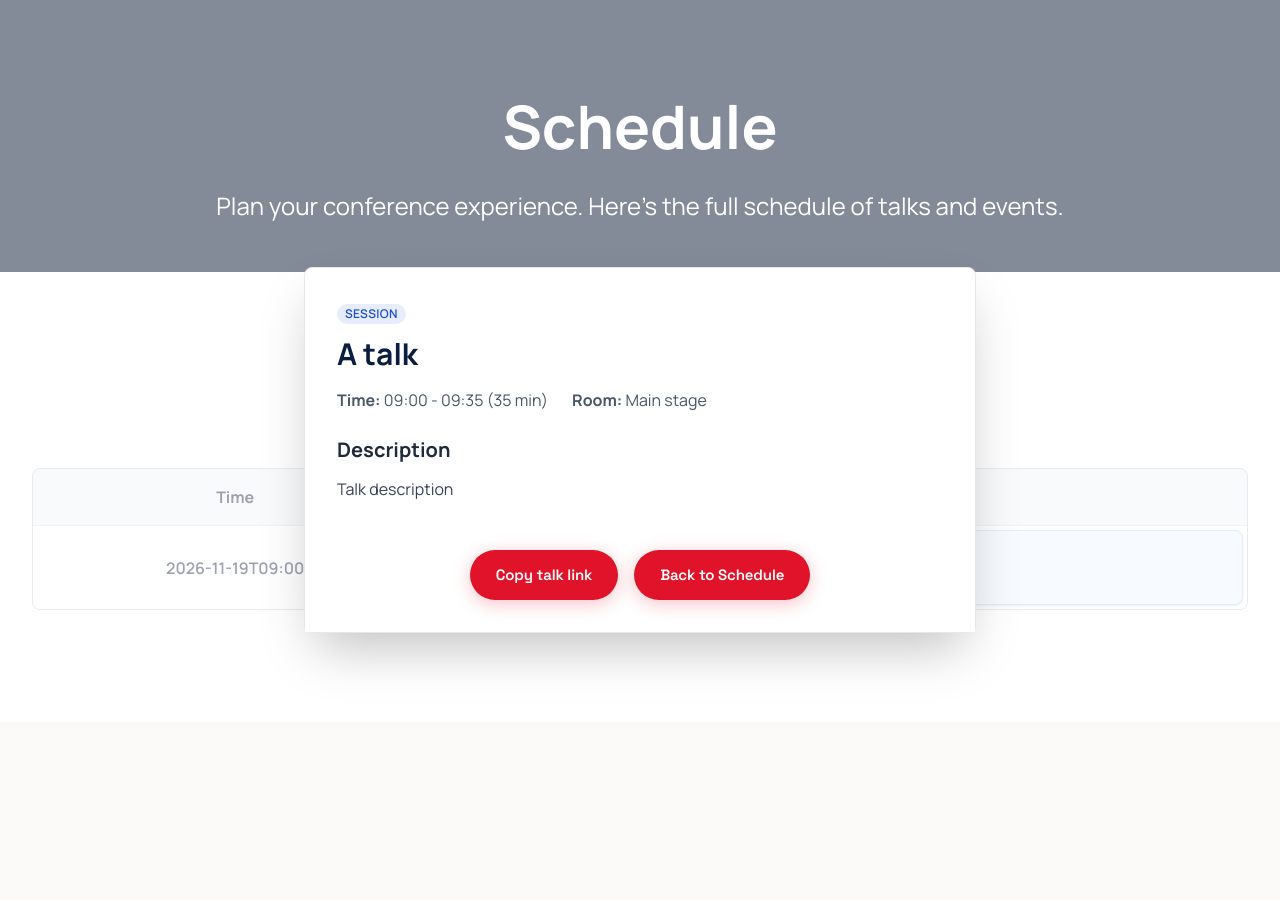
Test case: talk links › closes a linked talk without losing the schedule
Click the button "Back to Schedule" at x=722, y=575, box [634, 550, 810, 600]
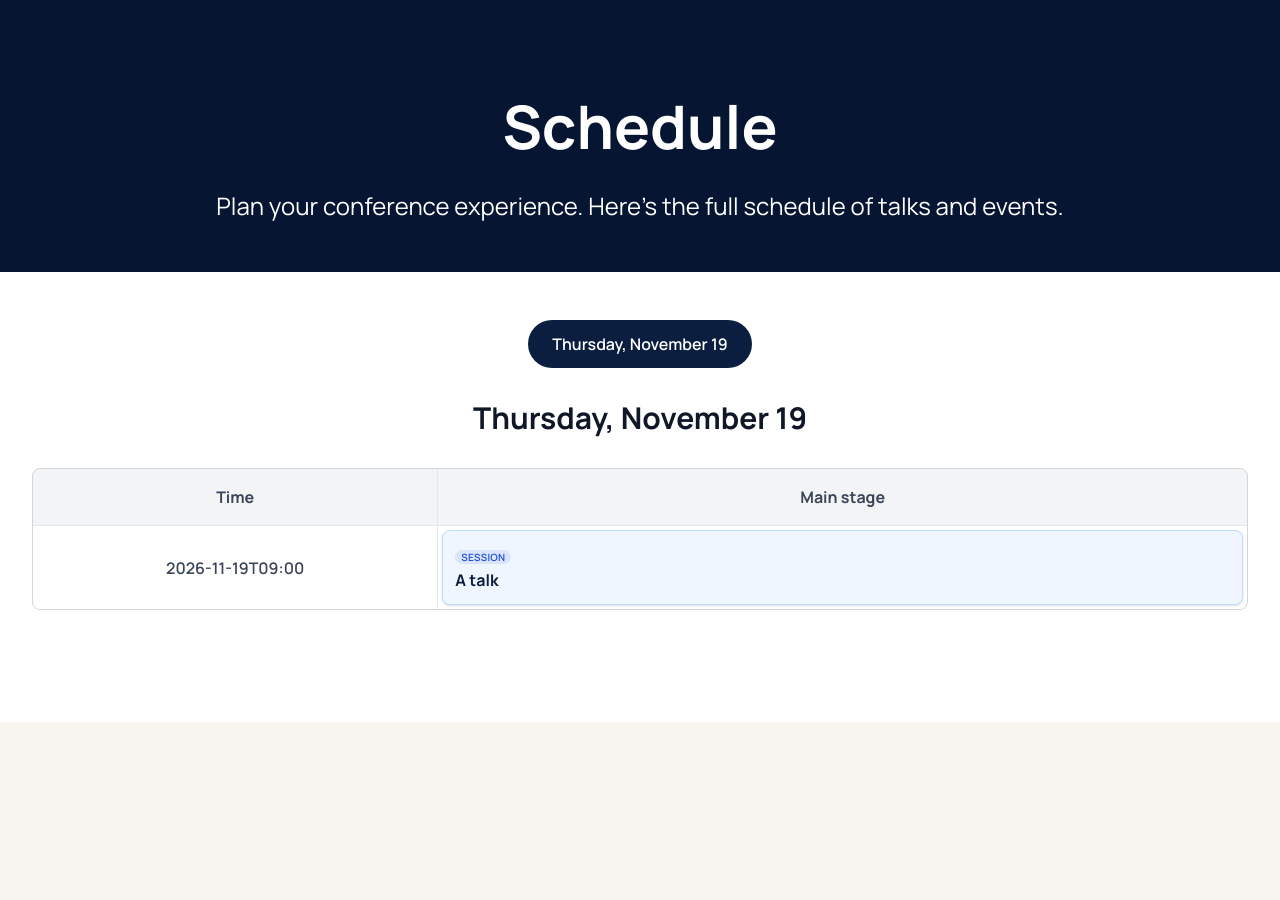
Expected: the heading "Schedule" is shown, [502, 85, 778, 167]
Now the button "Copy talk link" is gone
